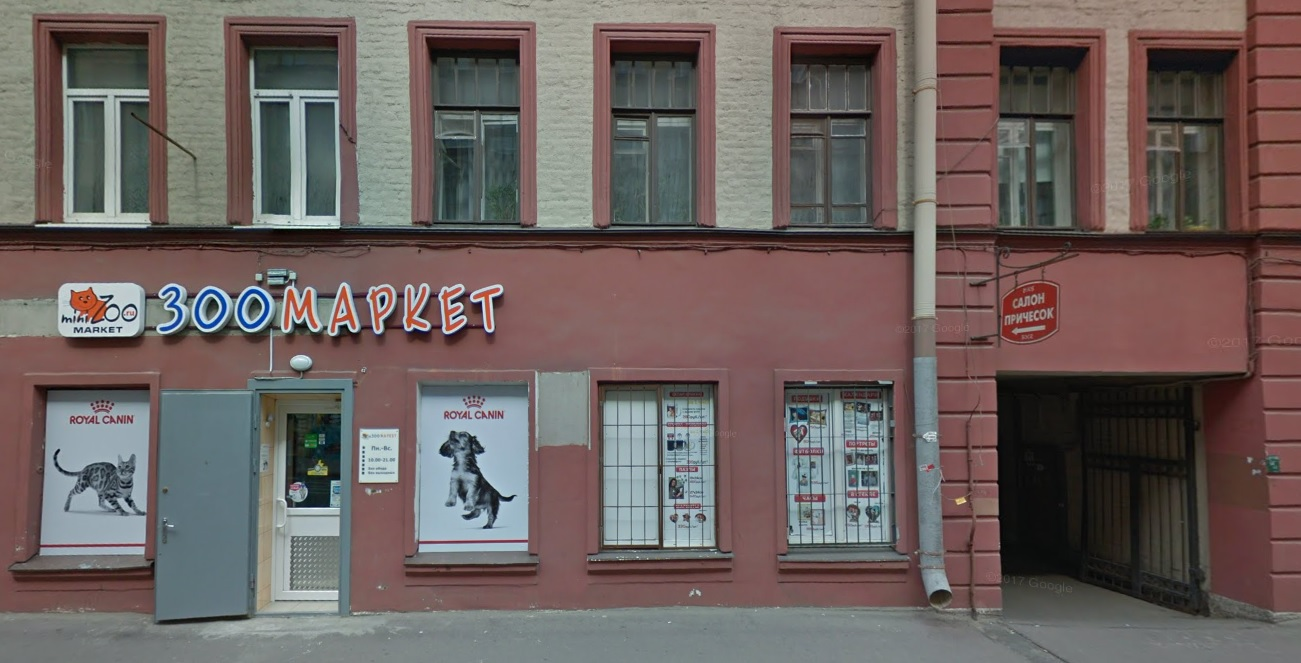arch: (995, 371, 1272, 629)
cantilever: (968, 247, 1077, 353)
door: (157, 381, 351, 619)
signboard: (52, 271, 503, 346)
window: (40, 386, 152, 555), (425, 385, 529, 554), (60, 40, 152, 224), (252, 43, 342, 224), (431, 49, 520, 224), (612, 51, 699, 223), (1150, 52, 1228, 232), (790, 55, 870, 227), (998, 60, 1078, 228)
